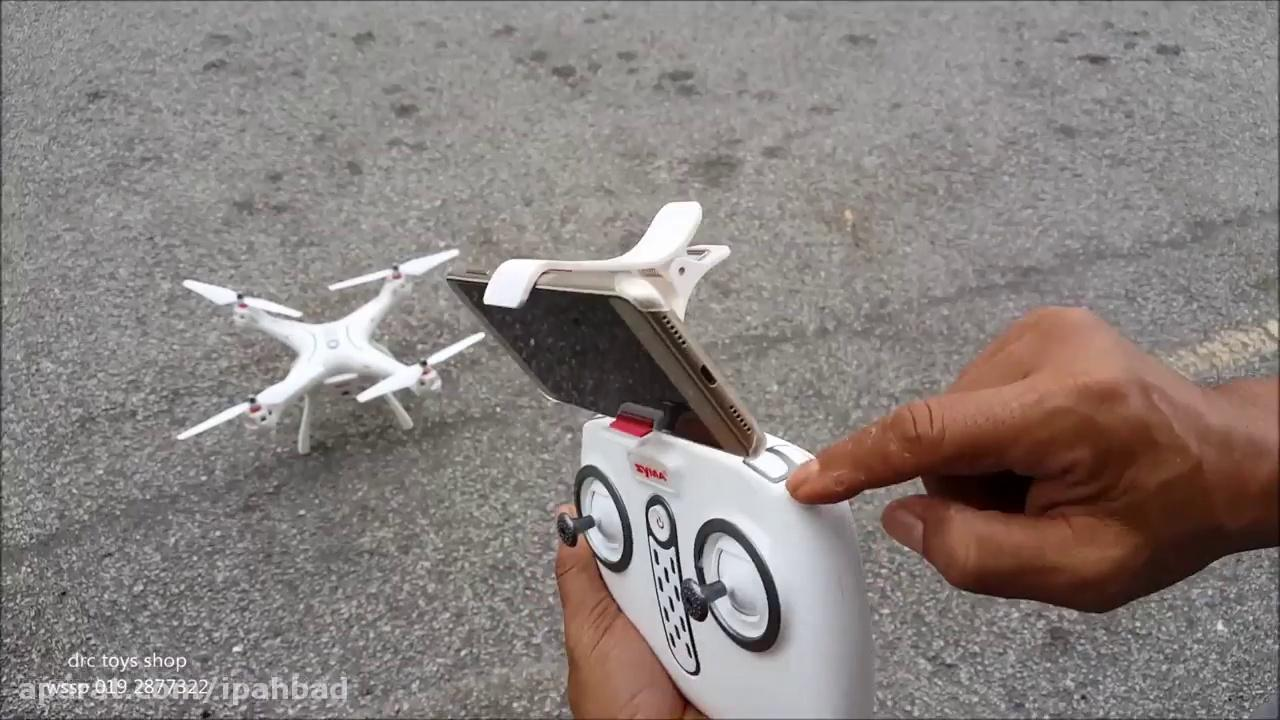drone: (164, 239, 484, 456)
